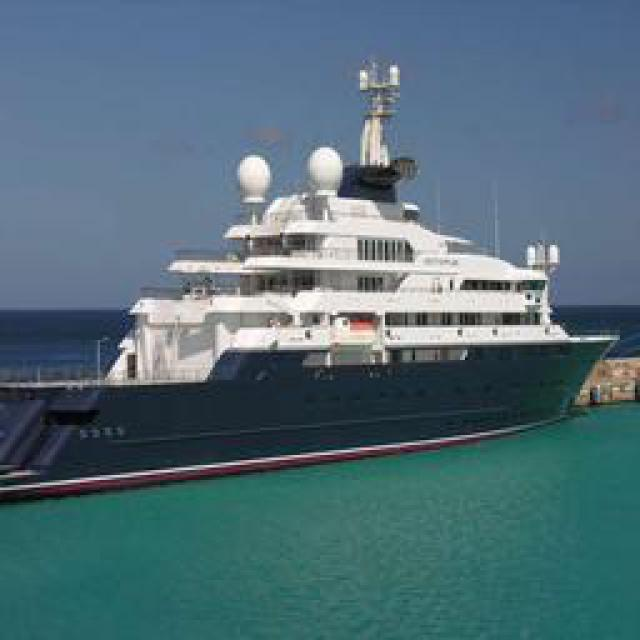Ship: (35, 106, 618, 449)
